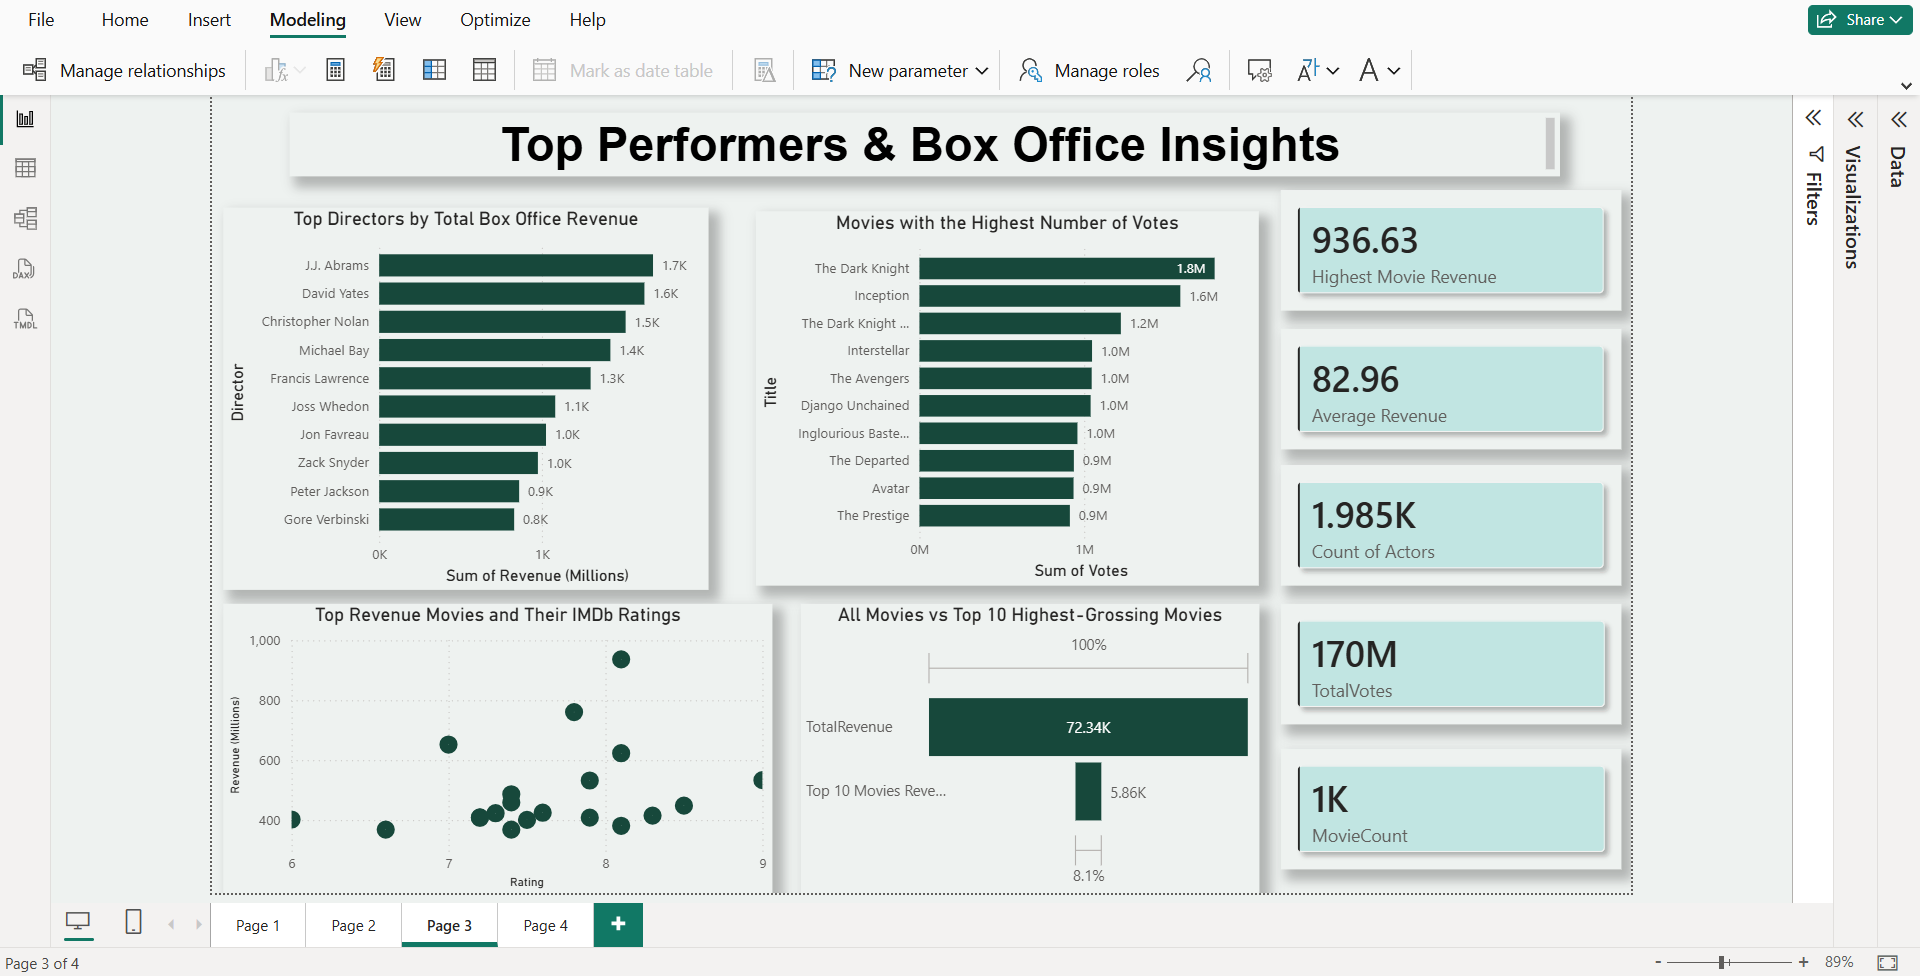

The dashboard page shown, as its layout file describes it:
{"tool":"powerbi","page":{"name":"Page 3","canvas":[1280,720],"ordinal":2},"visuals":[{"type":"textbox","box":[69.7,15.9,1145.8,57.5],"z":0},{"type":"barChart","title":"Top Directors by Total Box Office Revenue","fields":{"Category":["IMDB-Movie-Data.Director"],"Y":["Sum(IMDB-Movie-Data.Revenue (Millions))"]},"box":[9.8,101.5,437.8,344.8],"z":1000},{"type":"barChart","title":"Movies with the Highest Number of Votes","fields":{"Category":["IMDB-Movie-Data.Title"],"Y":["Sum(IMDB-Movie-Data.Votes)"]},"box":[490.4,105.2,453.7,337.5],"z":2000},{"type":"funnel","title":"All Movies vs Top 10 Highest-Grossing Movies","fields":{"Y":["_Measure.TotalRevenue","_Measure.Top 10 Movies Revenue"]},"box":[530.7,458.6,413.3,261.7],"z":3000},{"type":"scatterChart","title":"Top Revenue Movies and Their IMDb Ratings","fields":{"X":["IMDB-Movie-Data.Rating"],"Y":["IMDB-Movie-Data.Revenue (Millions)"],"Series":["IMDB-Movie-Data.Title"]},"box":[9.6,458.3,495.4,262.1],"z":4000},{"type":"cardVisual","fields":{"Data":["_Measure.Highest Movie Revenue"]},"box":[963.6,85.6,306.9,108.8],"z":5000},{"type":"cardVisual","fields":{"Data":["_Measure.Average Revenue"]},"box":[963.6,210.3,306.9,108.8],"z":6000},{"type":"cardVisual","fields":{"Data":["Count(Actors Table.Actors)"]},"box":[963.6,333.8,306.9,108.8],"z":7000},{"type":"cardVisual","fields":{"Data":["_Measure.TotalVotes"]},"box":[964.2,459.1,307.5,108.5],"z":8000},{"type":"cardVisual","fields":{"Data":["_Measure.MovieCount"]},"box":[964.2,589.9,307.5,108.5],"z":9000}]}

Visuals, with their boxes on the page's 1280x720 design canvas (x1, y1, x2, y2). These are canvas units, not pixel positions in the 1920x976 screenshot, which may show the page scaled, cropped or inside an application window:
textbox: {"x1": 70, "y1": 16, "x2": 1216, "y2": 73}
"Top Directors by Total Box Office Revenue" barChart: {"x1": 10, "y1": 102, "x2": 448, "y2": 446}
"Movies with the Highest Number of Votes" barChart: {"x1": 490, "y1": 105, "x2": 944, "y2": 443}
"All Movies vs Top 10 Highest-Grossing Movies" funnel: {"x1": 531, "y1": 459, "x2": 944, "y2": 720}
"Top Revenue Movies and Their IMDb Ratings" scatterChart: {"x1": 10, "y1": 458, "x2": 505, "y2": 720}
cardVisual - _Measure.Highest Movie Revenue: {"x1": 964, "y1": 86, "x2": 1270, "y2": 194}
cardVisual - _Measure.Average Revenue: {"x1": 964, "y1": 210, "x2": 1270, "y2": 319}
cardVisual - Count(Actors Table.Actors): {"x1": 964, "y1": 334, "x2": 1270, "y2": 443}
cardVisual - _Measure.TotalVotes: {"x1": 964, "y1": 459, "x2": 1272, "y2": 568}
cardVisual - _Measure.MovieCount: {"x1": 964, "y1": 590, "x2": 1272, "y2": 698}
